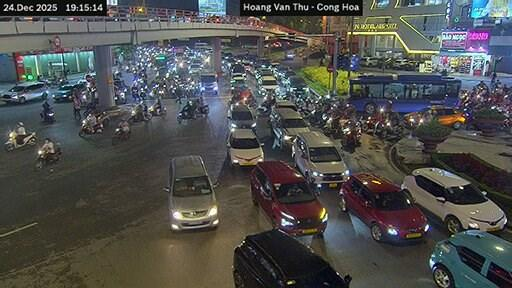motorbike: (35, 143, 60, 170), (3, 130, 35, 149), (374, 120, 403, 138), (342, 120, 361, 145), (322, 117, 342, 138), (80, 118, 102, 136), (307, 108, 327, 126), (128, 107, 152, 121), (112, 127, 130, 144), (176, 108, 197, 122), (361, 115, 377, 131), (147, 103, 165, 117), (39, 108, 54, 121), (198, 103, 207, 115)
